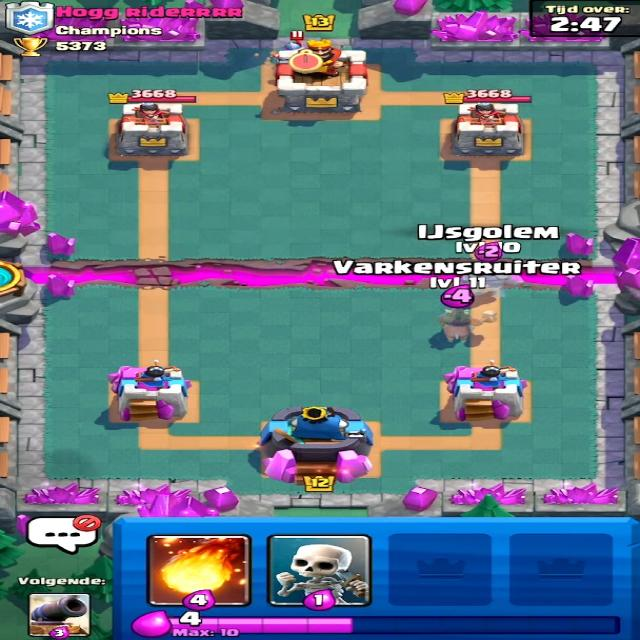Fireball_Card: (151, 529, 241, 605)
Skeleton_Card: (274, 536, 375, 605)
